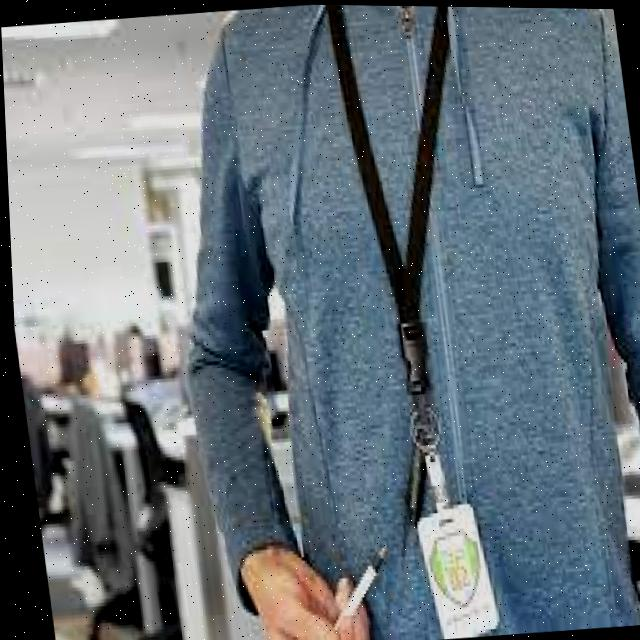id_card: (315, 4, 531, 629)
